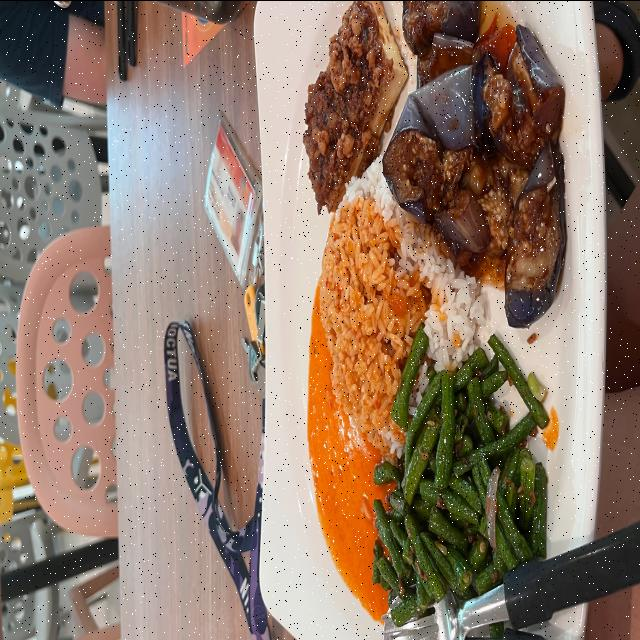Green veg: (373, 330, 549, 625), (490, 622, 502, 638)
Non green veg: (383, 0, 564, 326)
Pork: (304, 0, 391, 212)
Rice: (318, 159, 486, 459)
Tofu: (368, 0, 408, 140), (346, 148, 370, 180)
